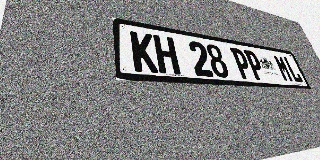2: (187, 40, 214, 77)
8: (205, 43, 230, 78)
H: (153, 34, 181, 74)
K: (130, 31, 159, 73)
L: (282, 56, 304, 83)
M: (272, 54, 294, 82)
P: (230, 47, 254, 79), (243, 49, 267, 80)
